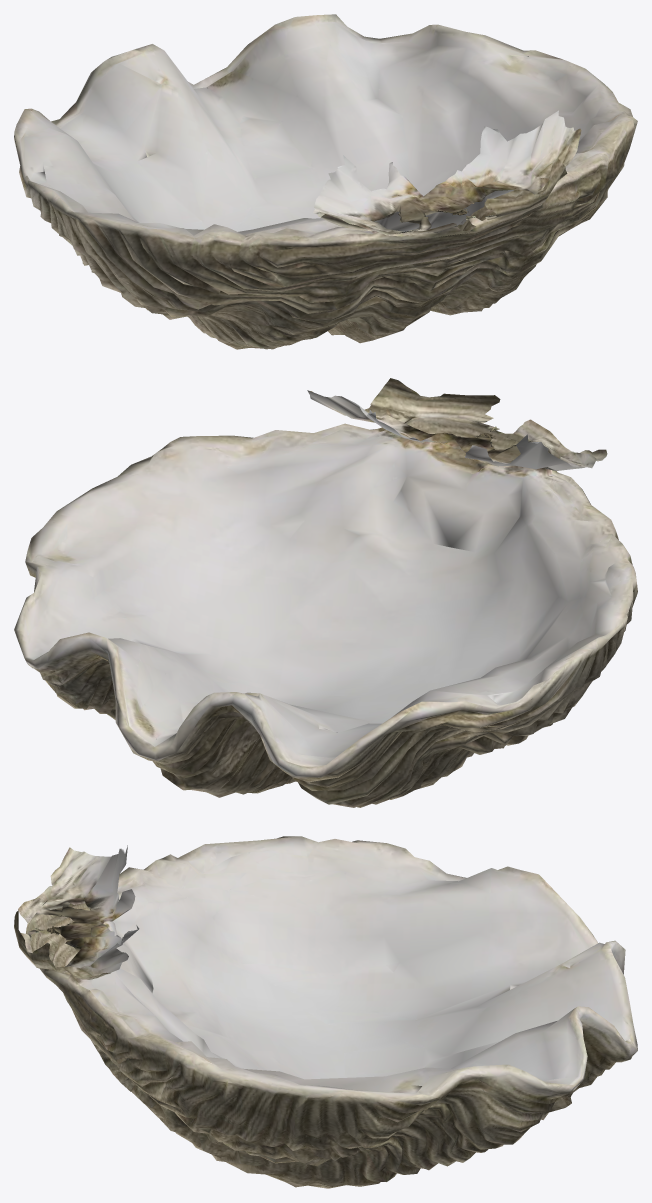
File: clam-bottom.glb
3 views of the same model, one above another, from view 1: azimuth 30°, elevation 25°; view 2: azimuth 150°, elevation 25°; view 3: azimuth 270°, elevation 25° (orthographic). The views are drawn at different scales.
Parts seen in each view (by area): view 1: Model; view 2: Model; view 3: Model.
Boxes of the visible parts, box(x1,y1,x2,y2) form: Model: box(14, 14, 637, 349); Model: box(14, 378, 637, 807); Model: box(14, 836, 637, 1188).
Bounding box in the file's own units: 1.83 × 0.8812 × 1.9.
Materials: 1 (1 with a texture image).
